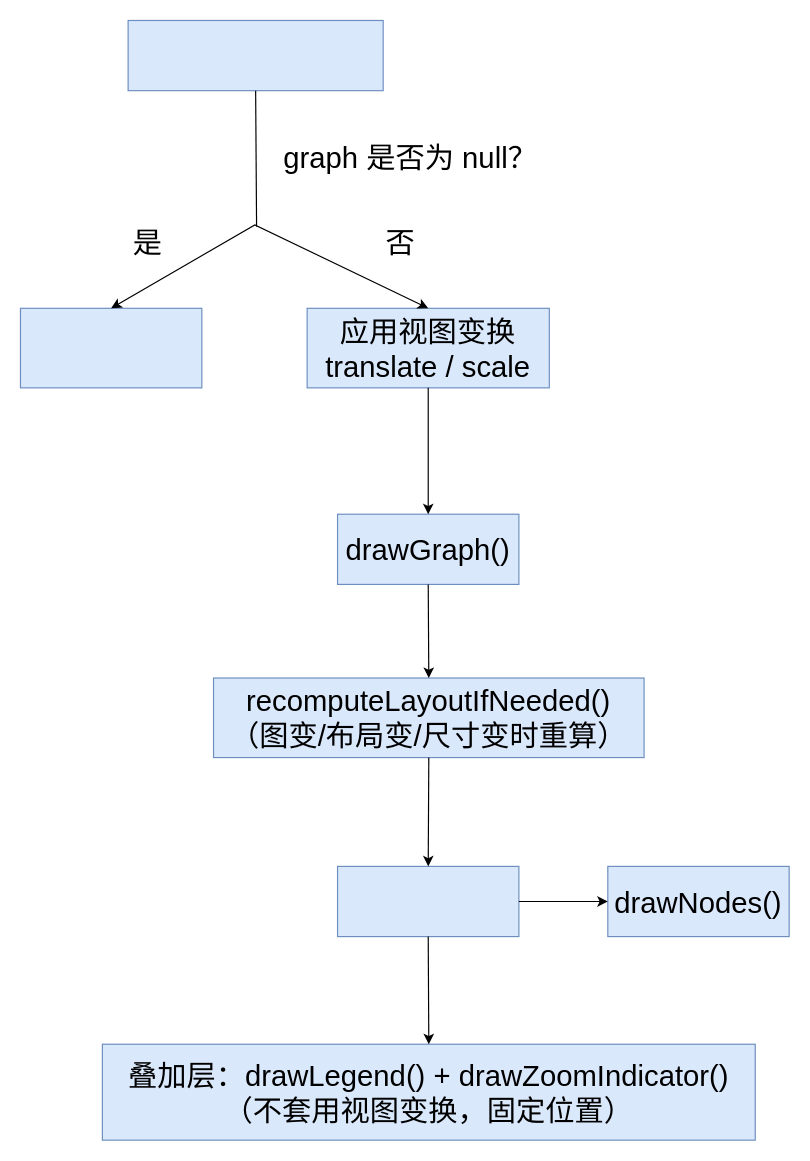
Image size: 810x1161. Some labels were removed from this diagram. Here are the shapes that lost their labels. From the top down, the centre of each, then its label:
At point (255, 55): "paintComponent()".
At point (110, 347): "画“暂无数据”".
At point (427, 901): "drawEdges()".
